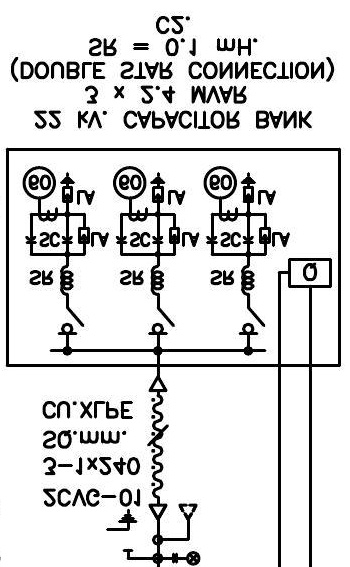22_cap_bank: (5, 147, 342, 368)
22_gs: (105, 508, 139, 553)
Q: (287, 257, 333, 289)
terminator_single: (147, 375, 168, 393)
terminator_w_future: (147, 503, 199, 542)
